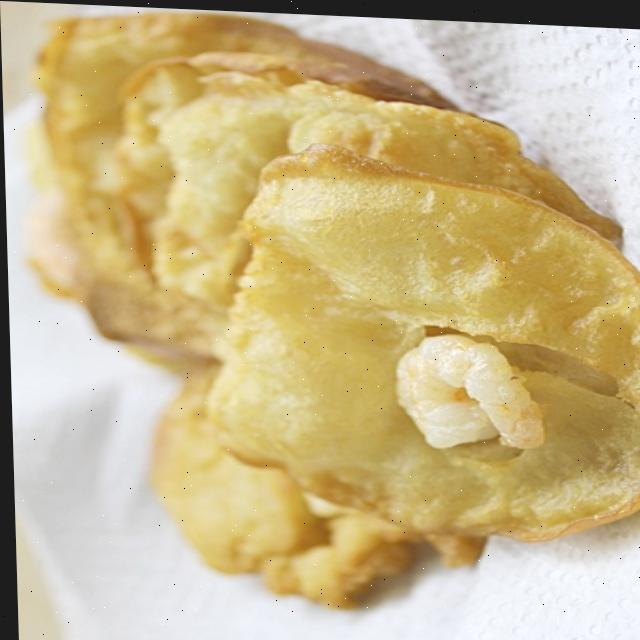炸货点心: (17, 1, 640, 640)
熟制海鲜: (17, 1, 640, 640)
